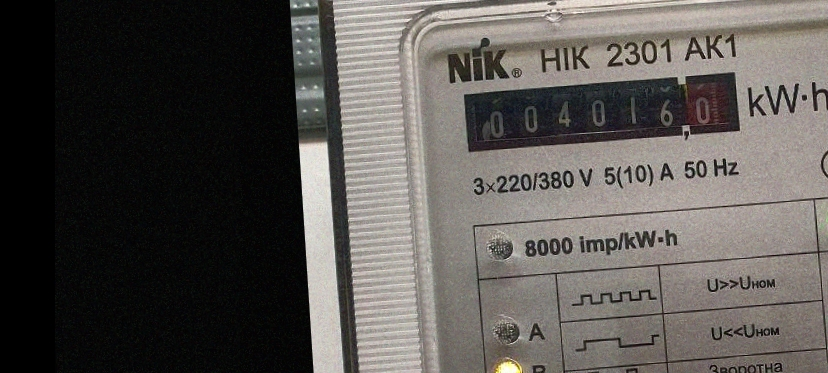0: (588, 95, 611, 131), (486, 106, 509, 141), (521, 101, 542, 136), (692, 93, 714, 126)
1: (626, 92, 643, 127)
4: (555, 96, 575, 131)
6: (656, 95, 677, 128)
screen: (457, 65, 750, 160)
